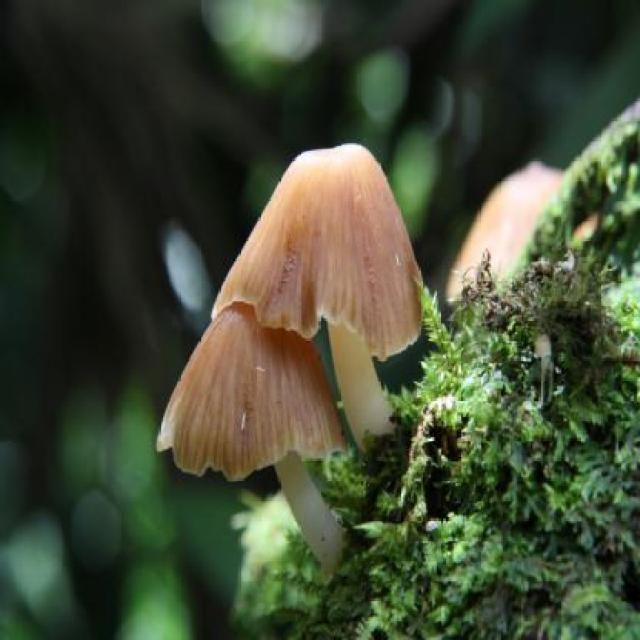Mushroom: (154, 299, 346, 573), (444, 159, 600, 356)
